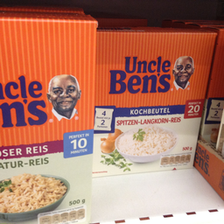rice: (1, 12, 97, 224), (96, 26, 217, 177)
